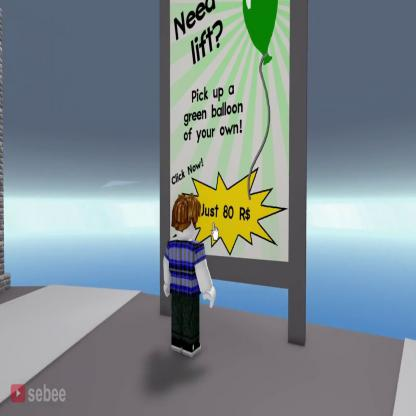Roblox-Avatar: (164, 193, 217, 359)
